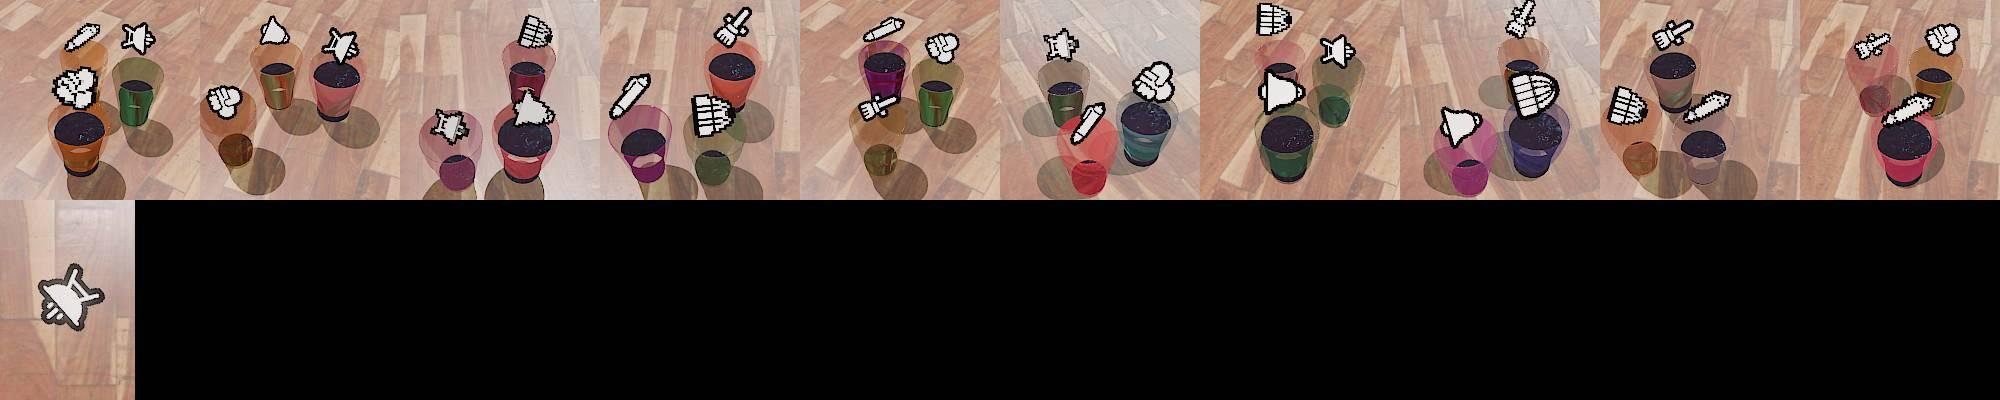icon: (36, 264, 106, 331), (1508, 70, 1561, 118), (51, 65, 99, 110), (1258, 65, 1302, 113), (610, 71, 653, 120), (690, 93, 736, 138), (1879, 92, 1934, 129), (1131, 60, 1176, 103), (1440, 104, 1483, 148), (1680, 89, 1732, 125), (1606, 84, 1649, 126), (1068, 99, 1106, 145), (713, 6, 753, 48), (511, 87, 555, 125), (1652, 18, 1695, 52), (321, 27, 360, 65), (431, 107, 469, 144), (205, 84, 242, 120), (1319, 32, 1355, 69), (1505, 0, 1538, 39), (857, 92, 899, 122), (518, 14, 554, 50), (120, 20, 156, 56), (1256, 1, 1292, 37), (862, 15, 906, 43), (1925, 23, 1959, 57), (1043, 28, 1079, 61), (1853, 31, 1893, 60), (925, 32, 960, 64), (64, 22, 101, 52), (259, 15, 290, 46)
